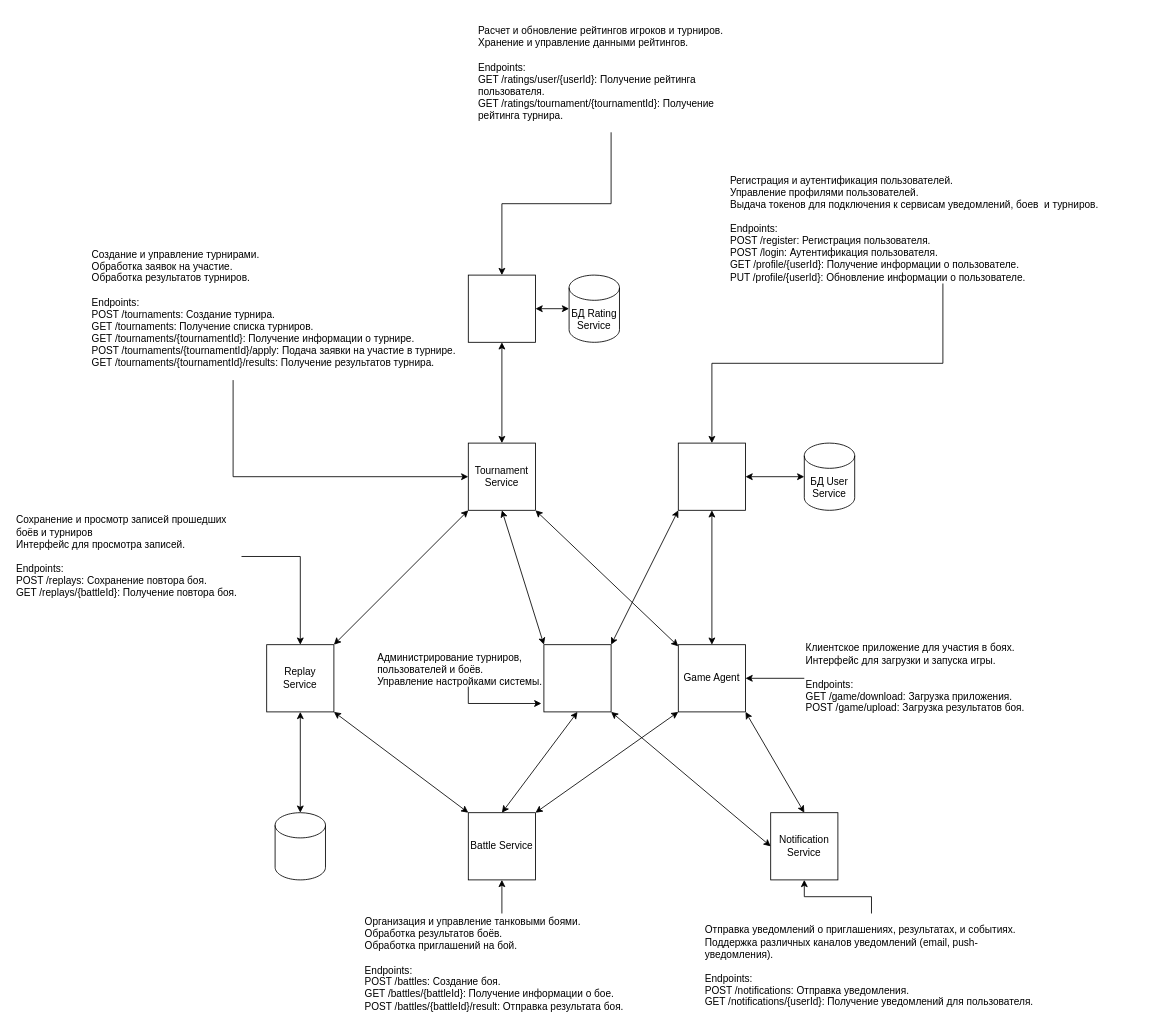
Some shapes in this 1171 by 1032 pixel diagram are drawn without their labels. The shapes that lost their labels are listed below. From the top down, each one's centre as x and y in pixels, then its label:
At [501,308]: "Rating Service".
At [711,476]: "User Service".
At [577,678]: "Admin Service".
At [300,846]: "БД Replay Service".
